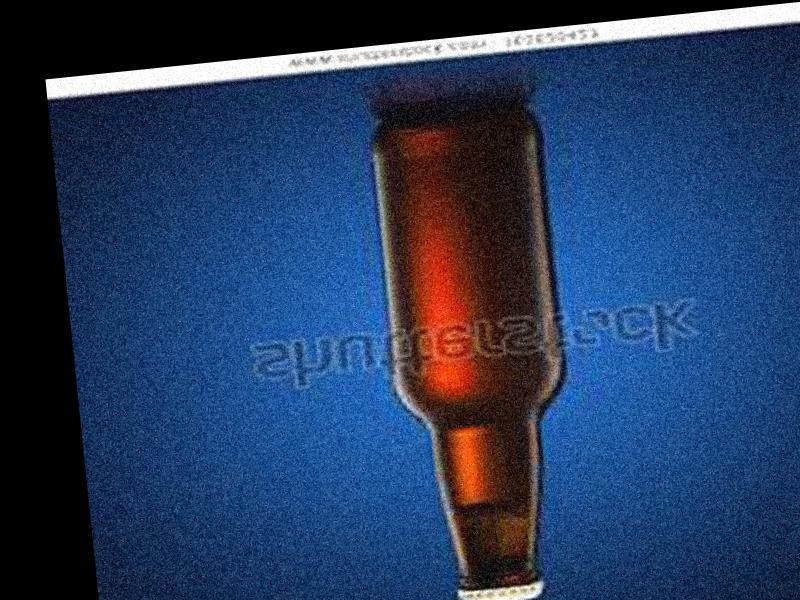Beer: (366, 104, 590, 600)
